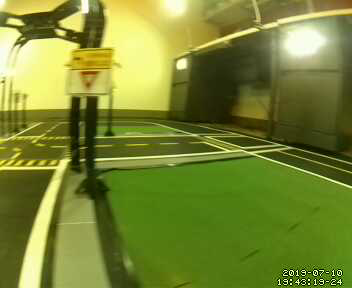Turn Yield: (68, 49, 115, 97)
